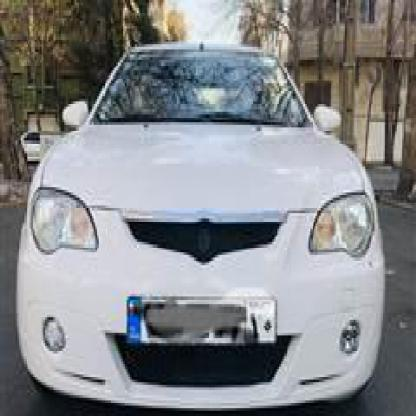car: (17, 29, 383, 406)
